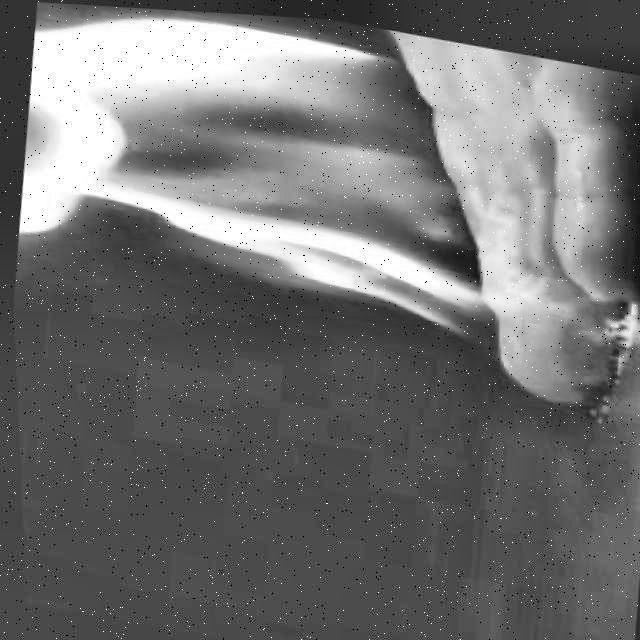Fire: (5, 0, 528, 342)
